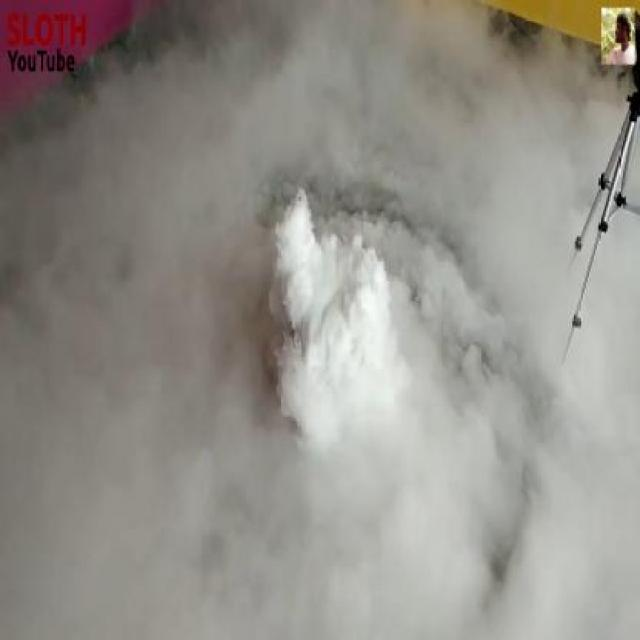smoke: (151, 130, 554, 582)
